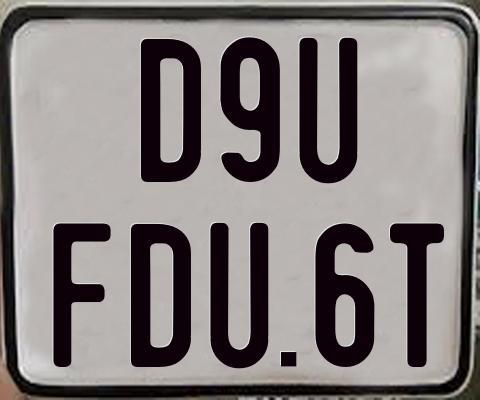6: (315, 220, 376, 370)
9: (219, 36, 280, 182)
D: (141, 36, 204, 185), (128, 222, 191, 369)
F: (52, 221, 112, 371)
T: (388, 223, 447, 371)
U: (299, 37, 361, 184), (208, 220, 269, 366)
